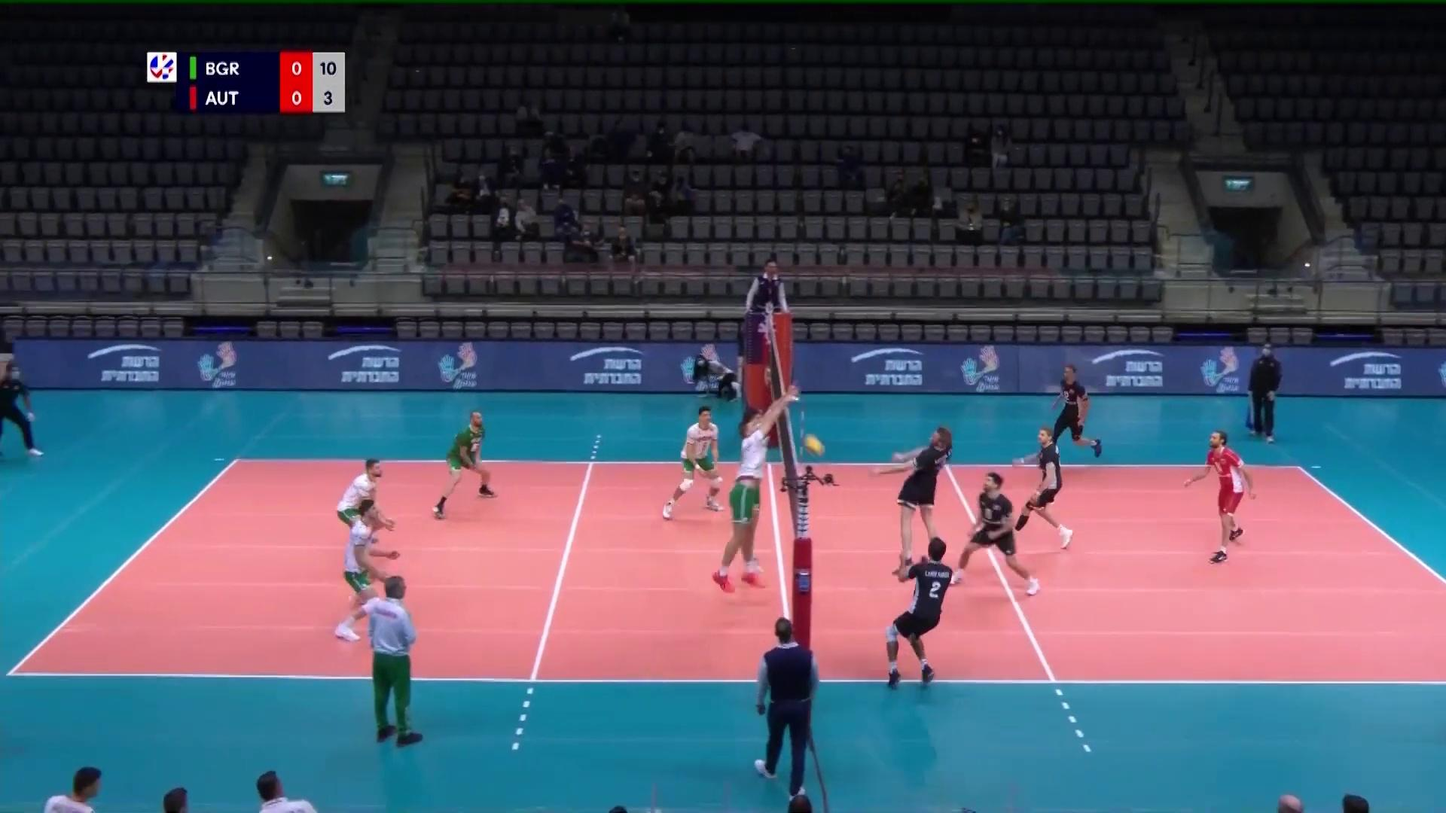ball: (804, 433, 824, 456)
